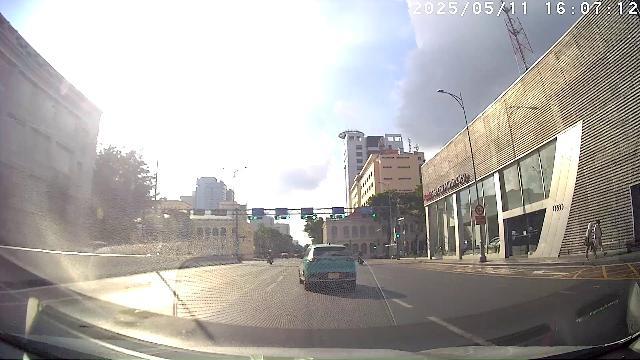124b-cam-oto-quay-dau-xe: (475, 205, 484, 215)
